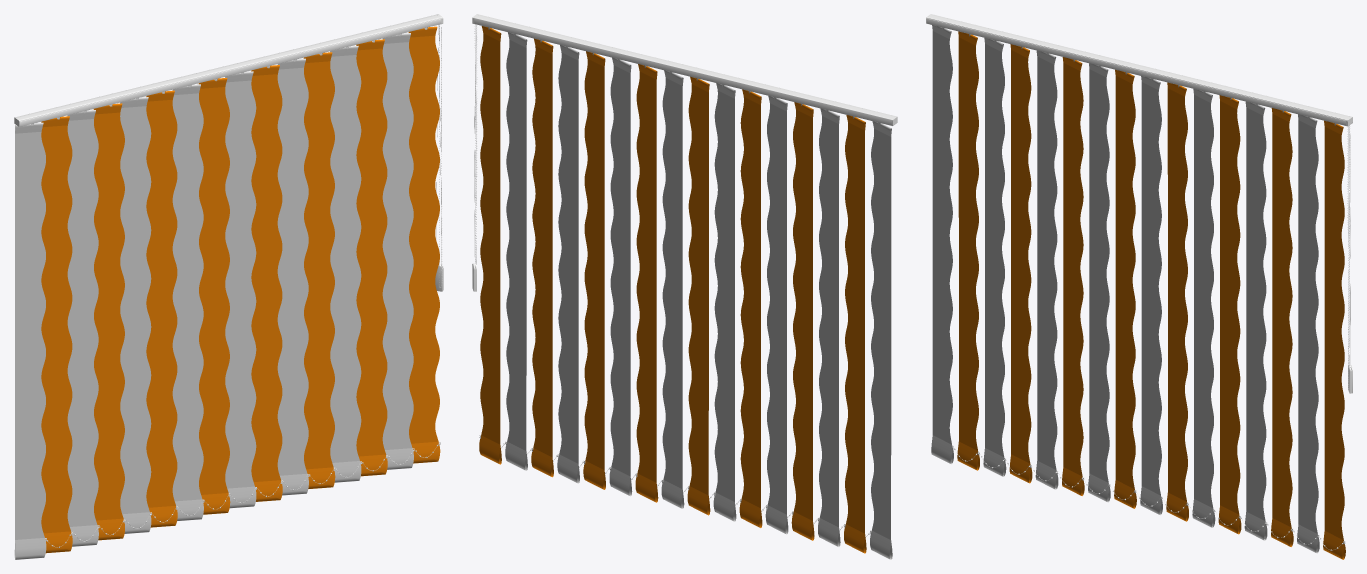
Rendered from Wavelines (gleichlaeufig).glb.
3 renders of one model, left to right at view 1: azimuth 30°, elevation 25°; view 2: azimuth 150°, elevation 25°; view 3: azimuth 330°, elevation 25°, orthographic.
Visible parts, largest first — view 1: Plane.009, Plane.016, Plane.022, Plane.018, Plane.012, Plane.010, Plane.023, Plane.014, Plane.017, Plane.011, Plane.019, Plane.020 (+5 smaller); view 2: Plane.016, Plane.009, Plane.015, Plane.014, Plane.013, Plane.012, Plane.011, Plane.010, Plane.017, Plane.018, Plane.019, Plane.020 (+5 smaller); view 3: Plane.009, Plane.017, Plane.016, Plane.018, Plane.015, Plane.019, Plane.014, Plane.020, Plane.013, Plane.021, Plane.024, Plane.012 (+5 smaller).
Boxes of the visible parts, x1,y1,x2,y2 form: Plane.009: (14,122,46,559); Plane.016: (408,26,440,463); Plane.022: (93,103,124,540); Plane.018: (198,78,230,514); Plane.012: (303,52,335,488); Plane.010: (251,65,282,501); Plane.023: (67,110,98,546); Plane.014: (356,39,387,476); Plane.017: (225,71,256,508); Plane.011: (277,58,308,495); Plane.019: (172,84,203,521); Plane.020: (146,90,177,527); Plane.016: (479,26,501,464); Plane.009: (870,121,892,559); Plane.015: (505,32,527,470); Plane.014: (531,38,553,477); Plane.013: (557,45,579,483); Plane.012: (583,51,605,489); Plane.011: (609,57,632,496); Plane.010: (635,64,658,502); Plane.017: (661,70,684,508); Plane.018: (687,76,710,515); Plane.019: (713,83,736,521); Plane.020: (739,89,762,527); Plane.009: (931,25,953,464); Plane.017: (1140,76,1162,515); Plane.016: (1323,120,1345,559); Plane.018: (1114,69,1136,508); Plane.015: (1297,114,1319,553); Plane.019: (1088,63,1110,502); Plane.014: (1271,108,1293,546); Plane.020: (1062,57,1084,495); Plane.013: (1244,101,1267,540); Plane.021: (1035,50,1058,489); Plane.024: (957,31,979,470); Plane.012: (1218,95,1241,534).
Size of the model in its own units: 2.01 by 2 by 0.058.
Materials: 4 (1 with a texture image).
